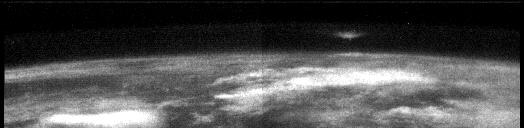negative: (337, 31, 360, 41)
